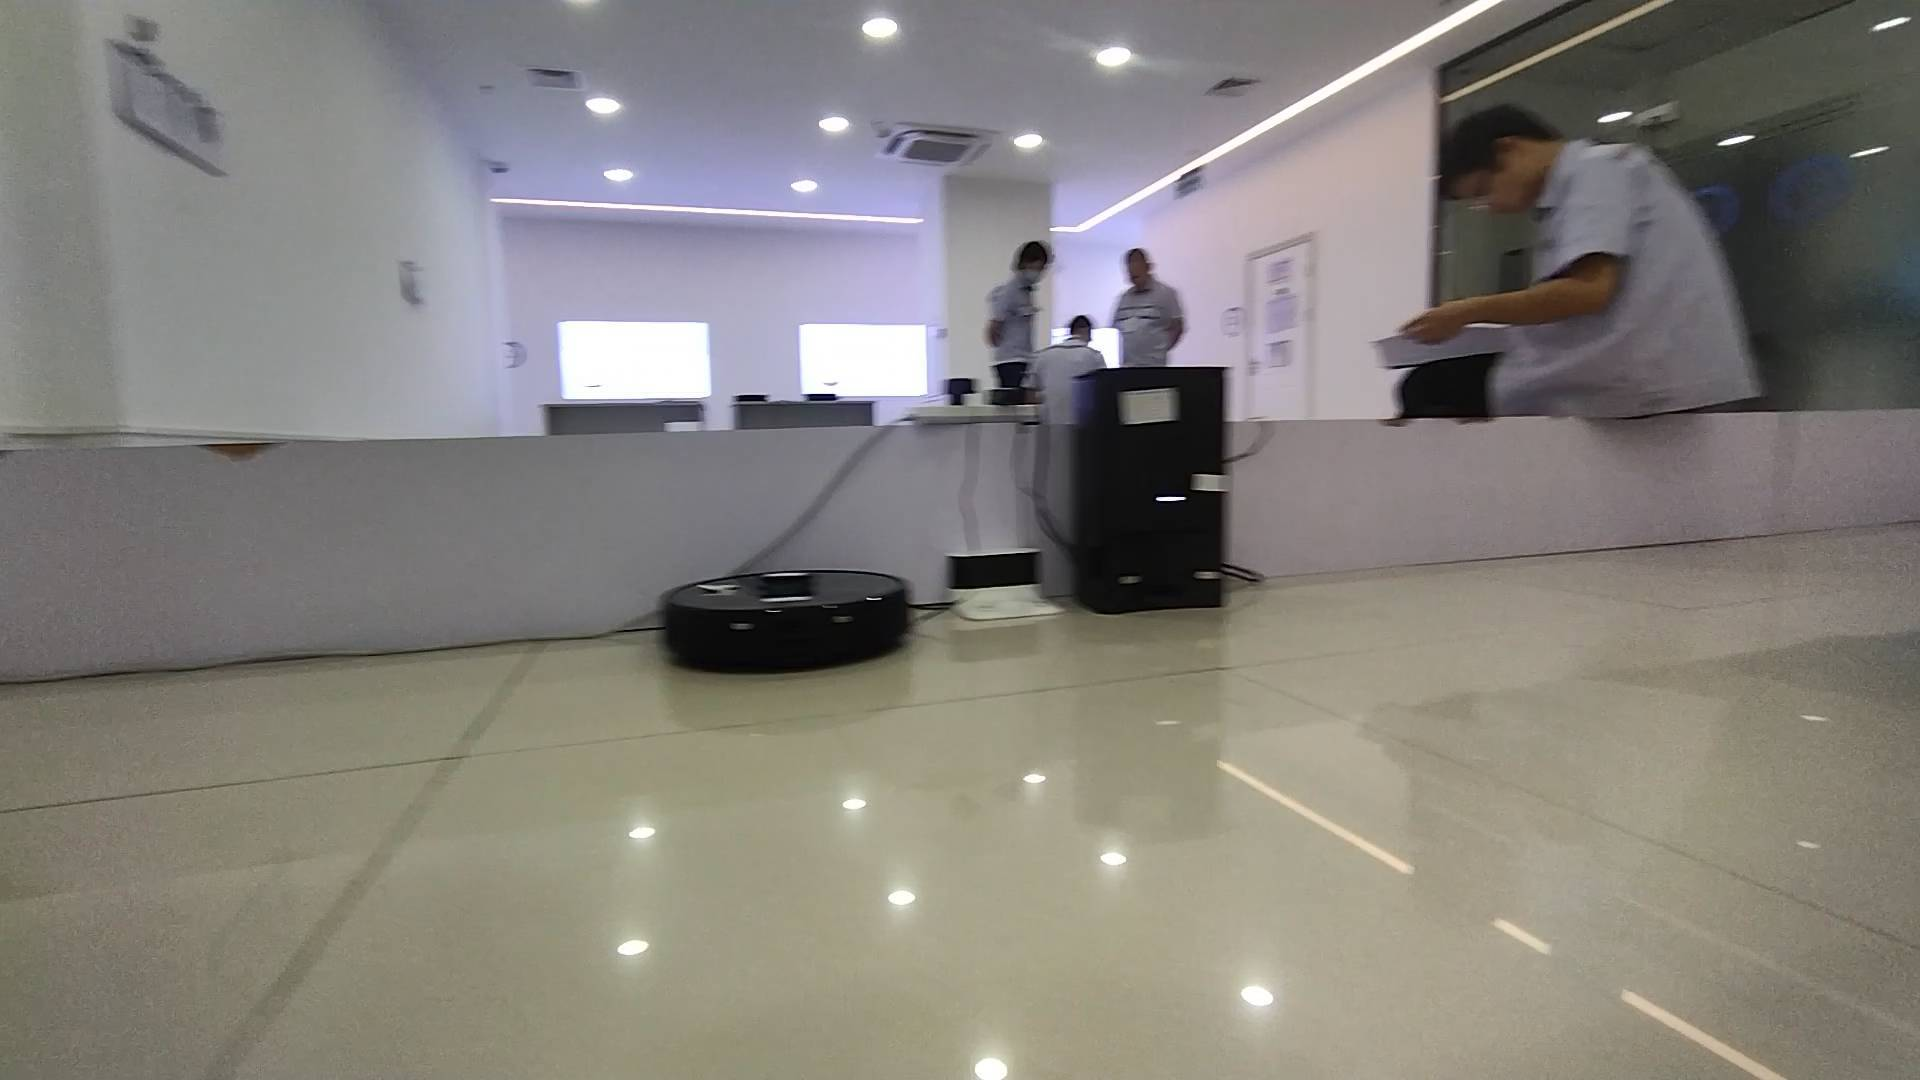dust collecting barrel: (1075, 369, 1232, 617)
recharge seat: (942, 549, 1069, 620)
